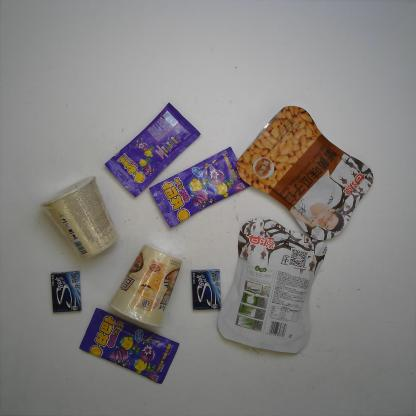Candy: (100, 100, 204, 200), (147, 145, 253, 230), (76, 307, 180, 386)
Dried Fruit: (233, 102, 376, 244), (214, 216, 329, 357)
Gum: (188, 265, 225, 313), (48, 269, 84, 315)
Instant Noodles: (34, 171, 121, 261), (104, 239, 184, 330)
